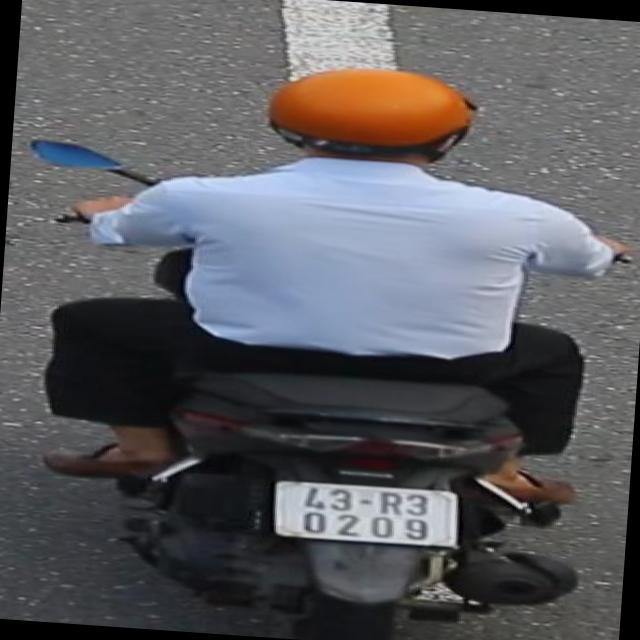LP: (273, 476, 471, 556)
helmet: (245, 48, 490, 207)
